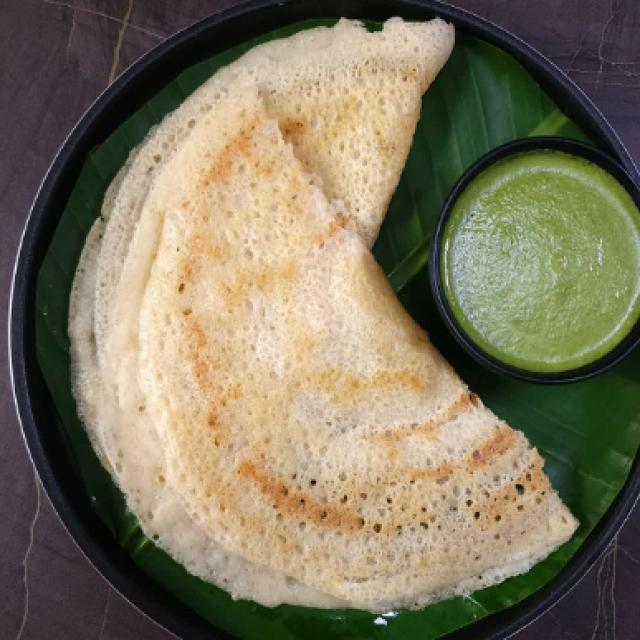dosa: (115, 91, 448, 640)
